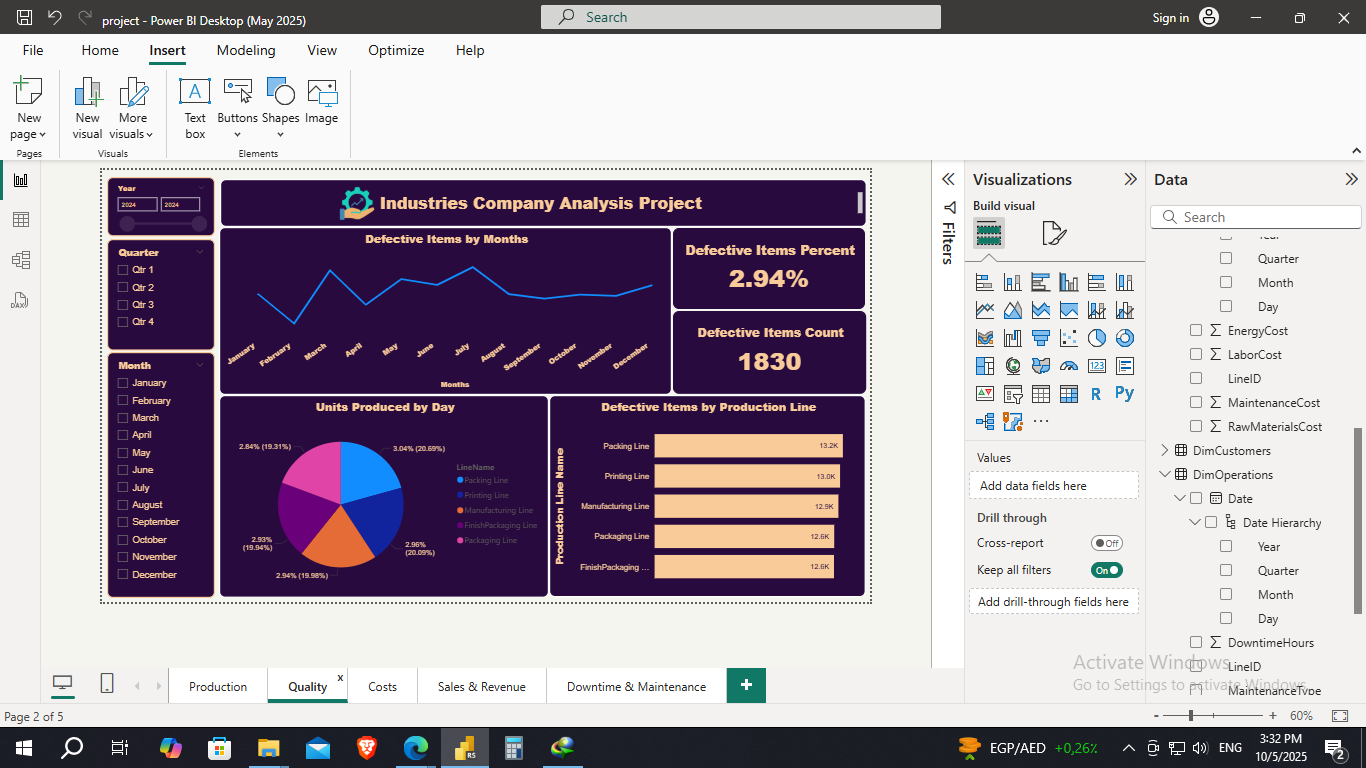

The dashboard page shown, as its layout file describes it:
{"tool":"powerbi","page":{"name":"Quality","canvas":[1280,720],"ordinal":1},"visuals":[{"type":"textbox","box":[196,15.1,1078.4,80],"z":0,"group":"g1"},{"type":"card","title":"Defective Items Percent","fields":{"Values":["A_Measure_Table.DefectiveItemsPercent"]},"box":[951.7,96.7,320,135],"z":0},{"type":"slicer","title":"Year","fields":{"Values":["DimProduction.Date.Variation.Date Hierarchy.Year"]},"box":[8.4,11.8,179.7,99.1],"z":1000},{"type":"image","box":[385.8,18,77.7,74.6],"z":1000,"group":"g1"},{"type":"barChart","title":"Defective Items by Production Line","fields":{"Category":["FactProductionLines.LineName"],"Y":["Sum(DimQuality.DefectiveUnits)"]},"box":[745,375,528.3,337],"z":2000},{"type":"lineChart","title":"Defective Items by Months","fields":{"Category":["DimProduction.Date.Variation.Date Hierarchy.Month"],"Y":["Sum(DimQuality.DefectiveUnits)"]},"box":[194.4,94.2,755,280],"z":3000},{"type":"card","title":"Defective Items Count","fields":{"Values":["A_Measure_Table.DefectiveItemsCount"]},"box":[951.7,235,321.7,138],"z":4000},{"type":"slicer","title":"Year","fields":{"Values":["DimProduction.Date.Variation.Date Hierarchy.Quarter"]},"box":[8.4,114.2,179.7,186.5],"z":5000},{"type":"slicer","title":"Year","fields":{"Values":["DimProduction.Date.Variation.Date Hierarchy.Month"]},"box":[8.4,304,179.7,409.9],"z":6000},{"type":"pieChart","title":"Units Produced by Day","fields":{"Y":["A_Measure_Table.DefectiveItemsPercent"],"Category":["FactProductionLines.LineName"]},"box":[195,375,550,338.3],"z":8000},{"type":"group","id":"g1","title":"Group 1","box":[196,15.1,1078.4,80],"z":8001}]}

Visuals, with their boxes on the page's 1280x720 design canvas (x1, y1, x2, y2). These are canvas units, not pixel positions in the 1366x768 screenshot, which may show the page scaled, cropped or inside an application window:
textbox: (x1=196, y1=15, x2=1274, y2=95)
"Defective Items Percent" card: (x1=952, y1=97, x2=1272, y2=232)
"Year" slicer: (x1=8, y1=12, x2=188, y2=111)
image: (x1=386, y1=18, x2=464, y2=93)
"Defective Items by Production Line" barChart: (x1=745, y1=375, x2=1273, y2=712)
"Defective Items by Months" lineChart: (x1=194, y1=94, x2=949, y2=374)
"Defective Items Count" card: (x1=952, y1=235, x2=1273, y2=373)
"Year" slicer: (x1=8, y1=114, x2=188, y2=301)
"Year" slicer: (x1=8, y1=304, x2=188, y2=714)
"Units Produced by Day" pieChart: (x1=195, y1=375, x2=745, y2=713)
"Group 1" group: (x1=196, y1=15, x2=1274, y2=95)
